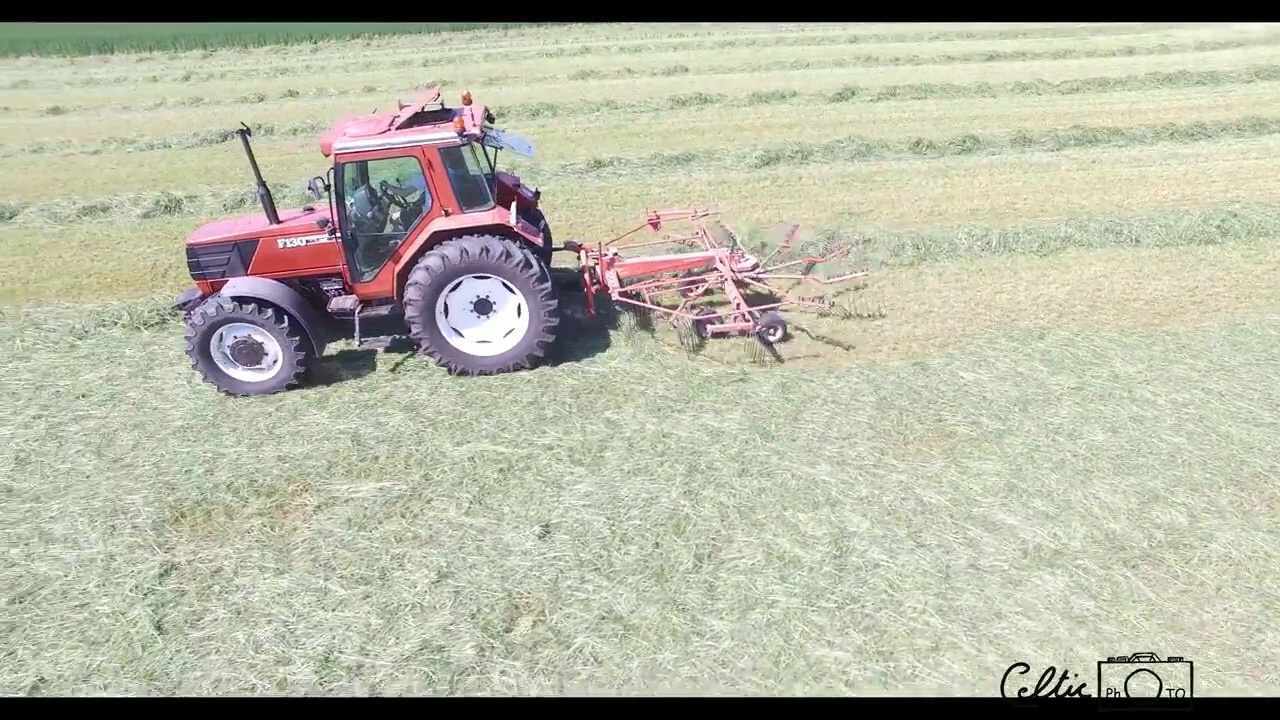traktor: (168, 95, 558, 398)
